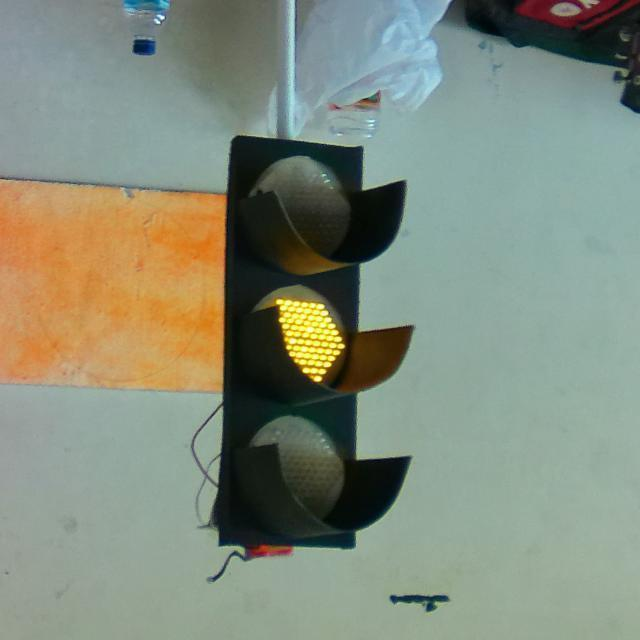yellow_light: (212, 134, 412, 546)
